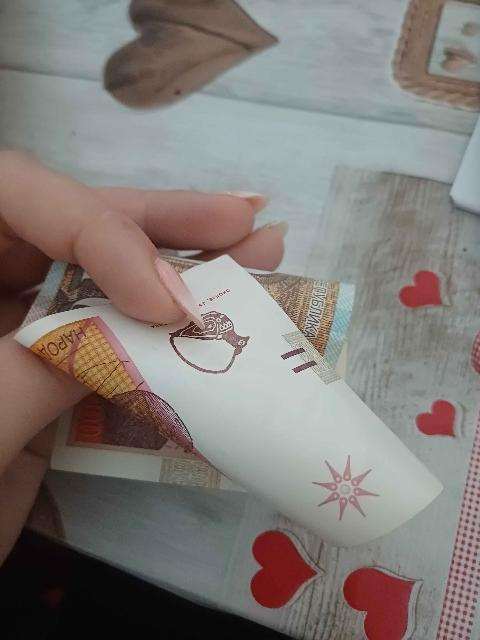1000_note: (23, 250, 439, 544)
